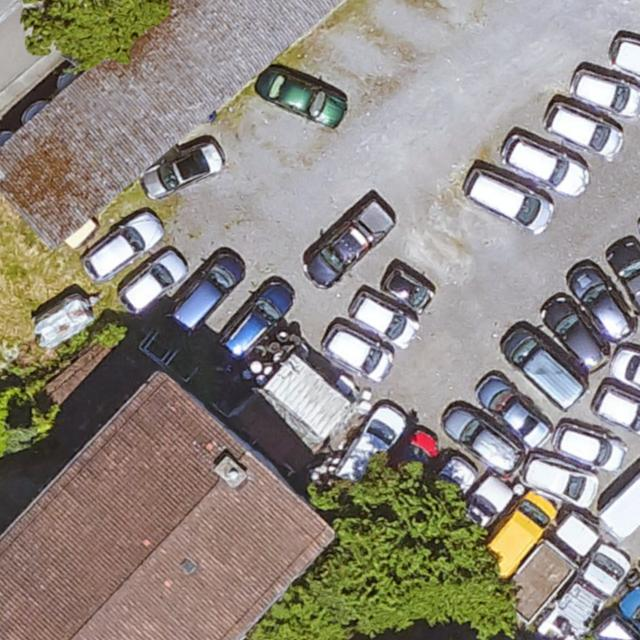tree: (298, 458, 489, 640), (24, 0, 171, 65)
